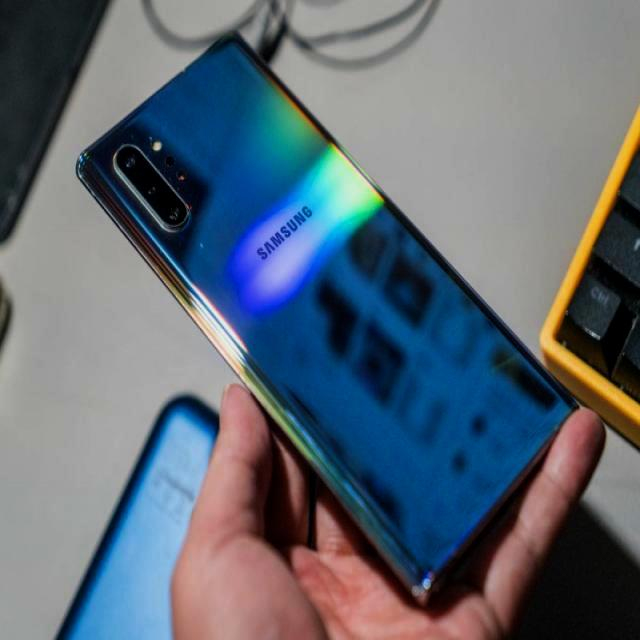lens: (111, 132, 194, 240)
phone: (75, 28, 579, 608)
